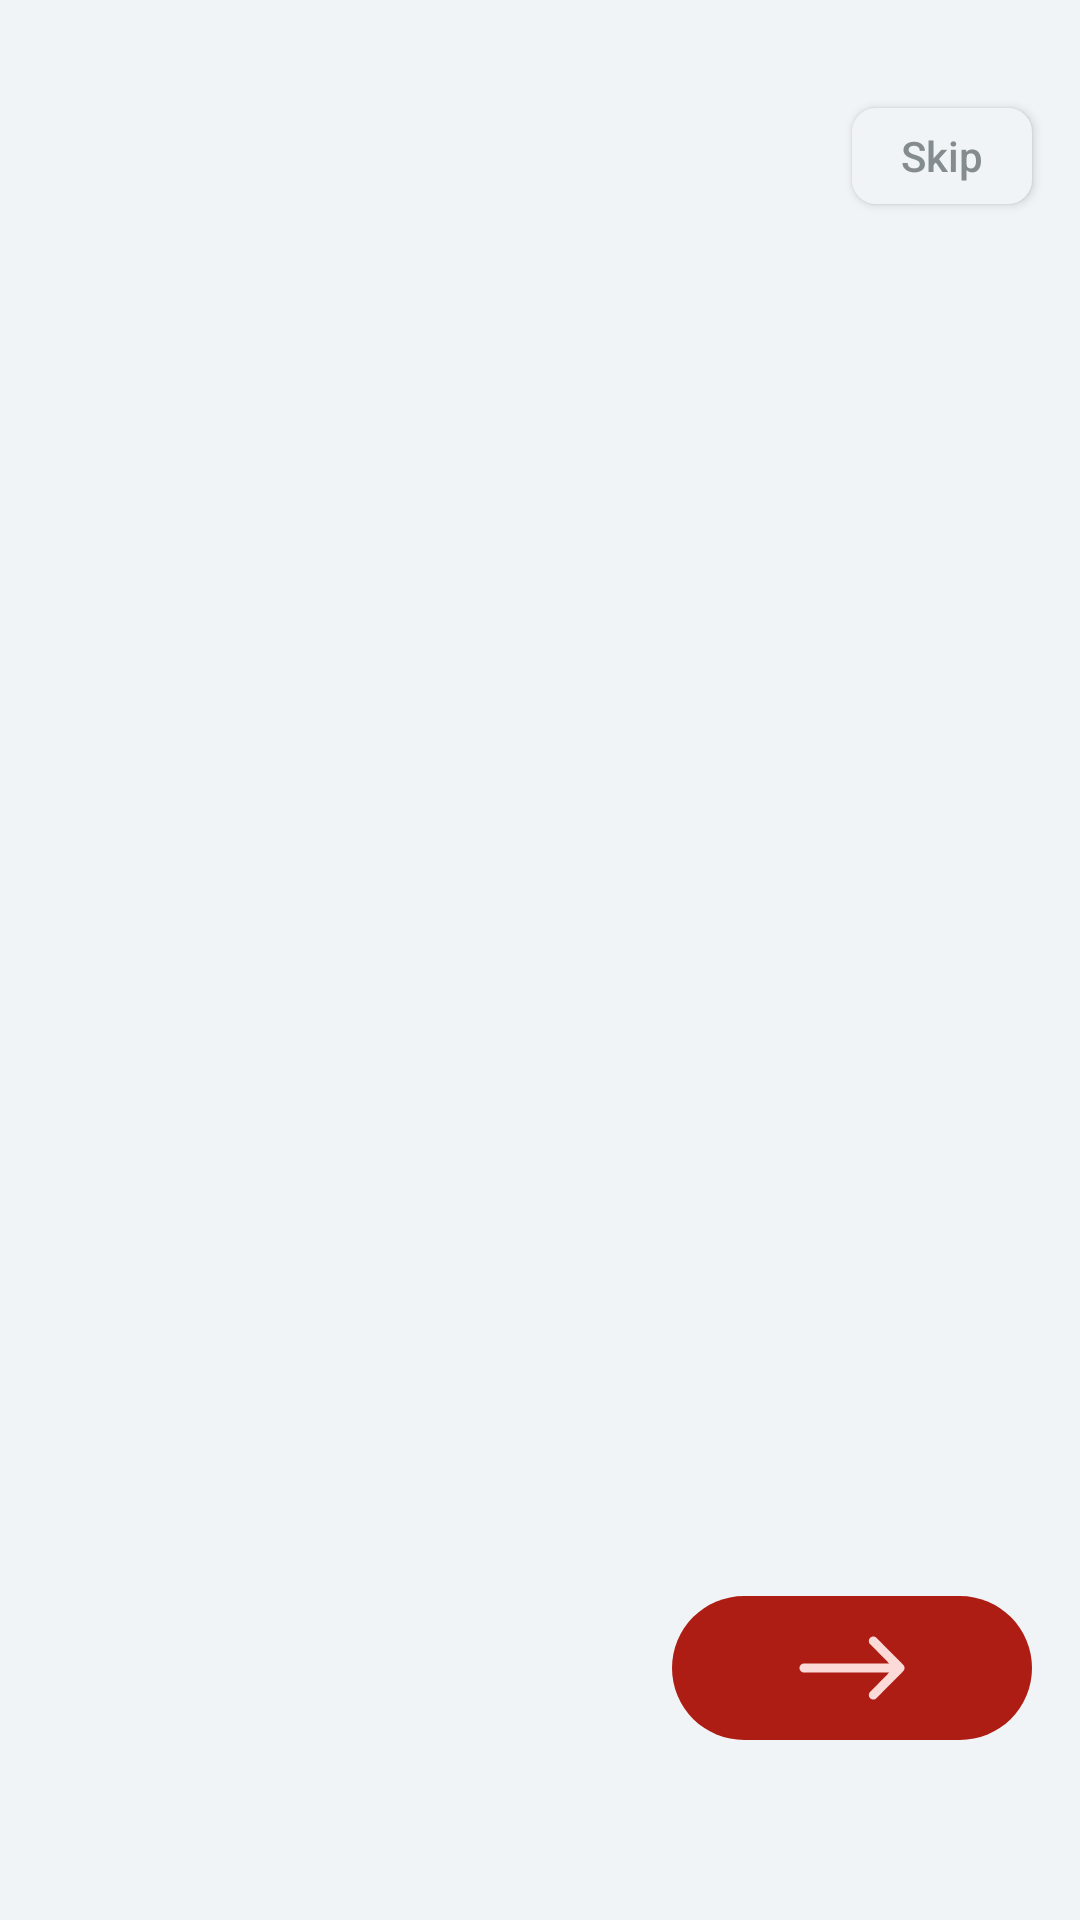

Icons on this 1080w x 1920h Android screen, each with its box as (x1, y1, x2, y2):
step next: (672, 1596, 1032, 1740)
